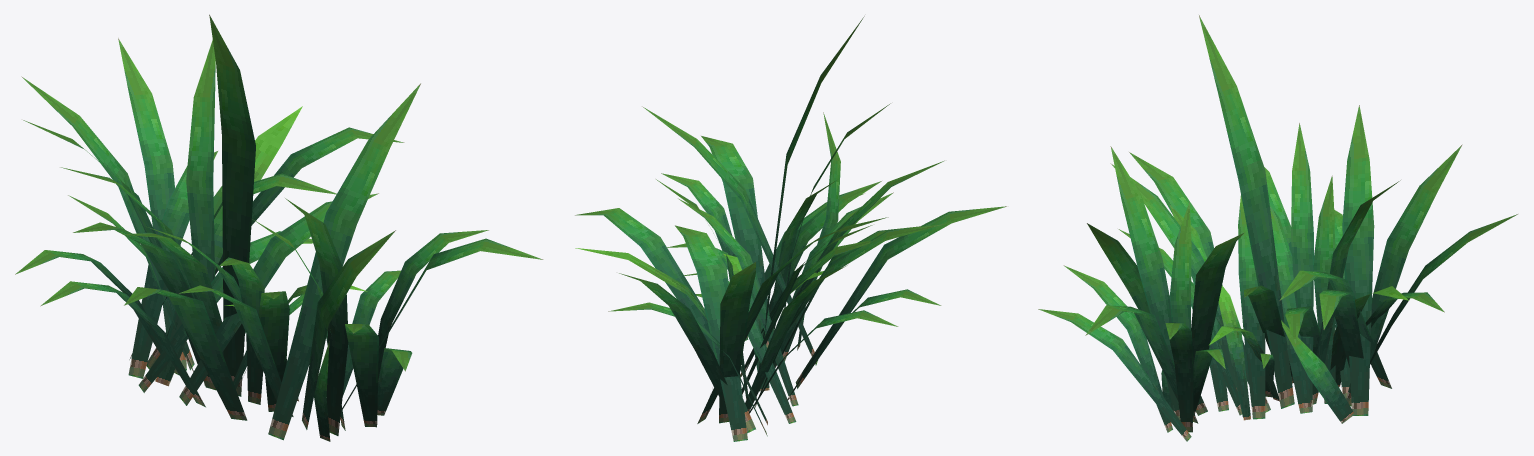
The model's file is taoyuanzhen_xiaocao.FBX.
The picture shows the model from 3 angles, left to right: view 1: azimuth 30°, elevation 25°; view 2: azimuth 150°, elevation 25°; view 3: azimuth 270°, elevation 25°; orthographic projection. The views are drawn at different scales.
Visible parts, largest first — view 1: taoyuanzhen_xiaocao; view 2: taoyuanzhen_xiaocao; view 3: taoyuanzhen_xiaocao.
Boxes of the visible parts, x1,y1,x2,y2 form: taoyuanzhen_xiaocao: [15, 14, 543, 441]; taoyuanzhen_xiaocao: [575, 16, 1006, 441]; taoyuanzhen_xiaocao: [1038, 15, 1517, 441].
Size of the model in its own units: 137 by 144 by 172.
